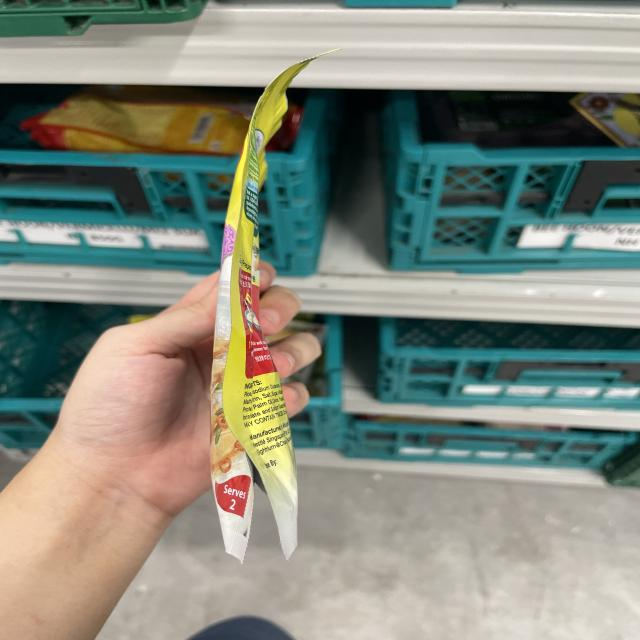object_name: (223, 57, 299, 553)
